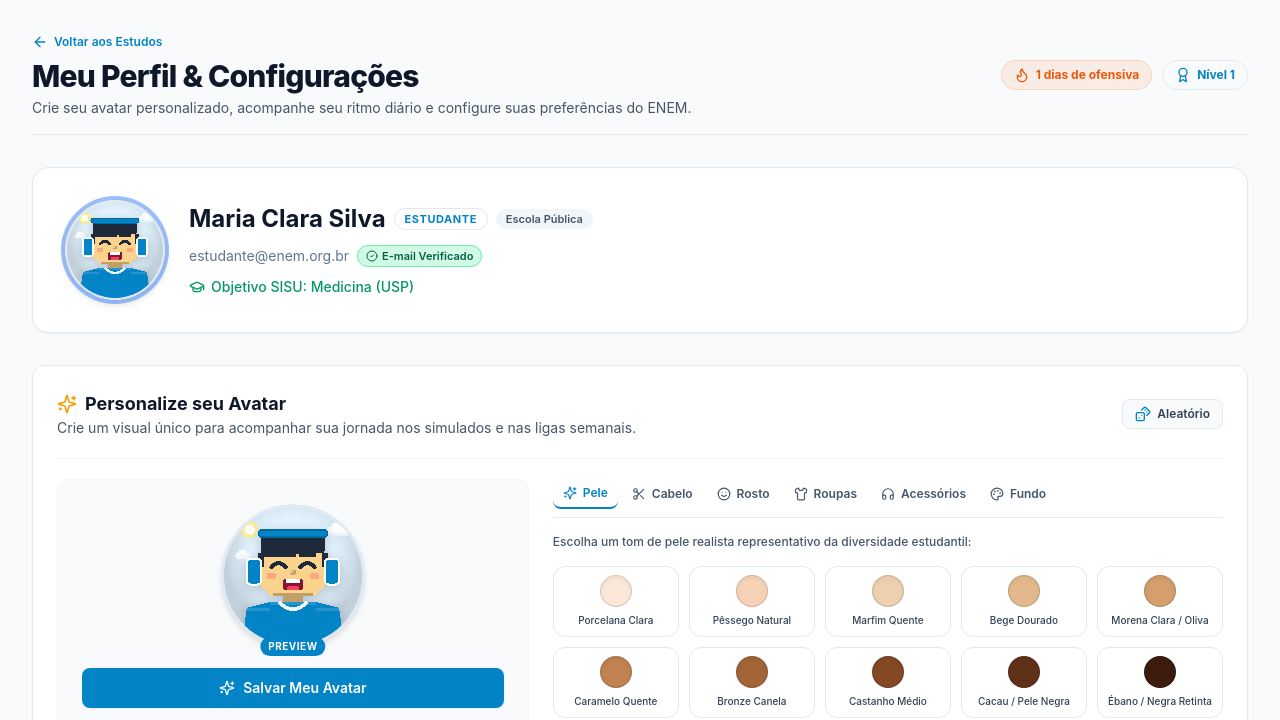
Test: ProfilePage Feature › allows customizing and saving avatar configuration
Expected: the heading "Personalize seu Avatar" is shown, [57,393,286,414]
Click the button "Salvar Meu Avatar" at (293, 688), box [82,668,504,708]
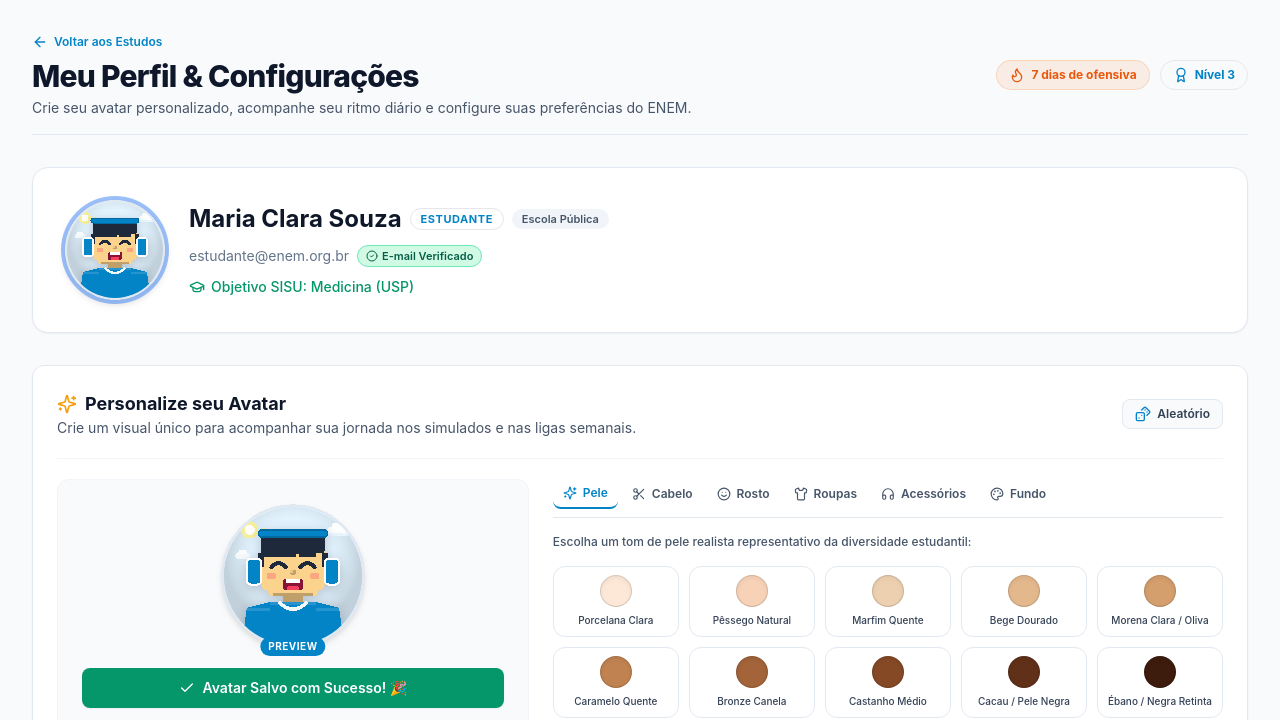
Result: the text "Avatar Salvo com Sucesso! 🎉" is shown at [202,678,407,698]
